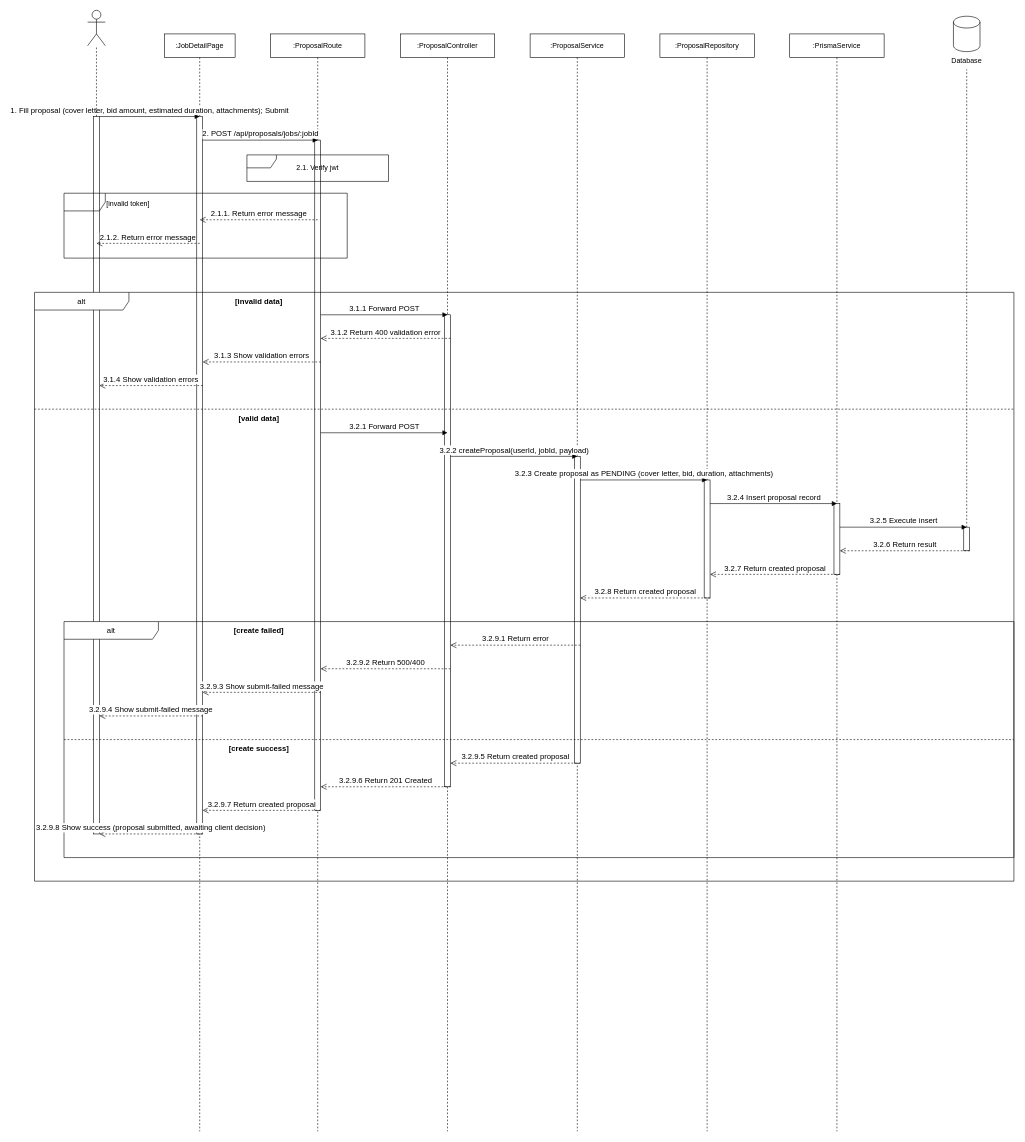
The diagram is 1025 pixels wide and 1142 high, and some of its shapes have lost their labels. Each missing label, with the box of its shape:
Freelancer: (87, 10, 105, 46)
opt: (63, 193, 347, 258)
ref: (246, 154, 389, 181)
